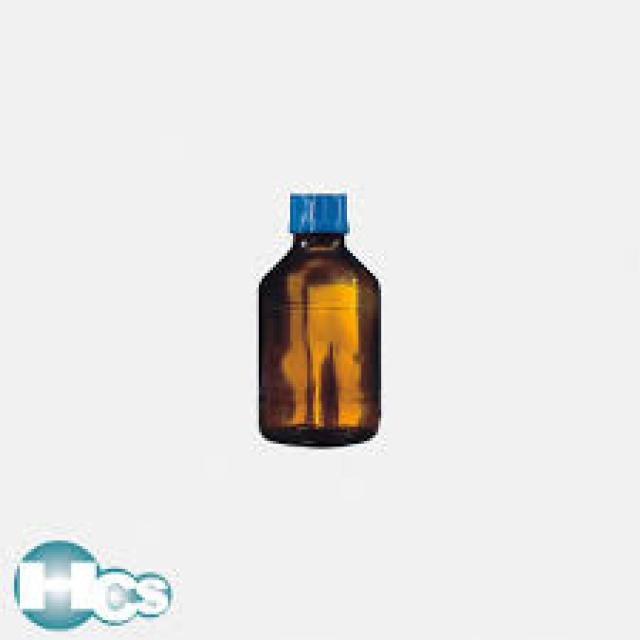glass: (259, 233, 378, 441)
